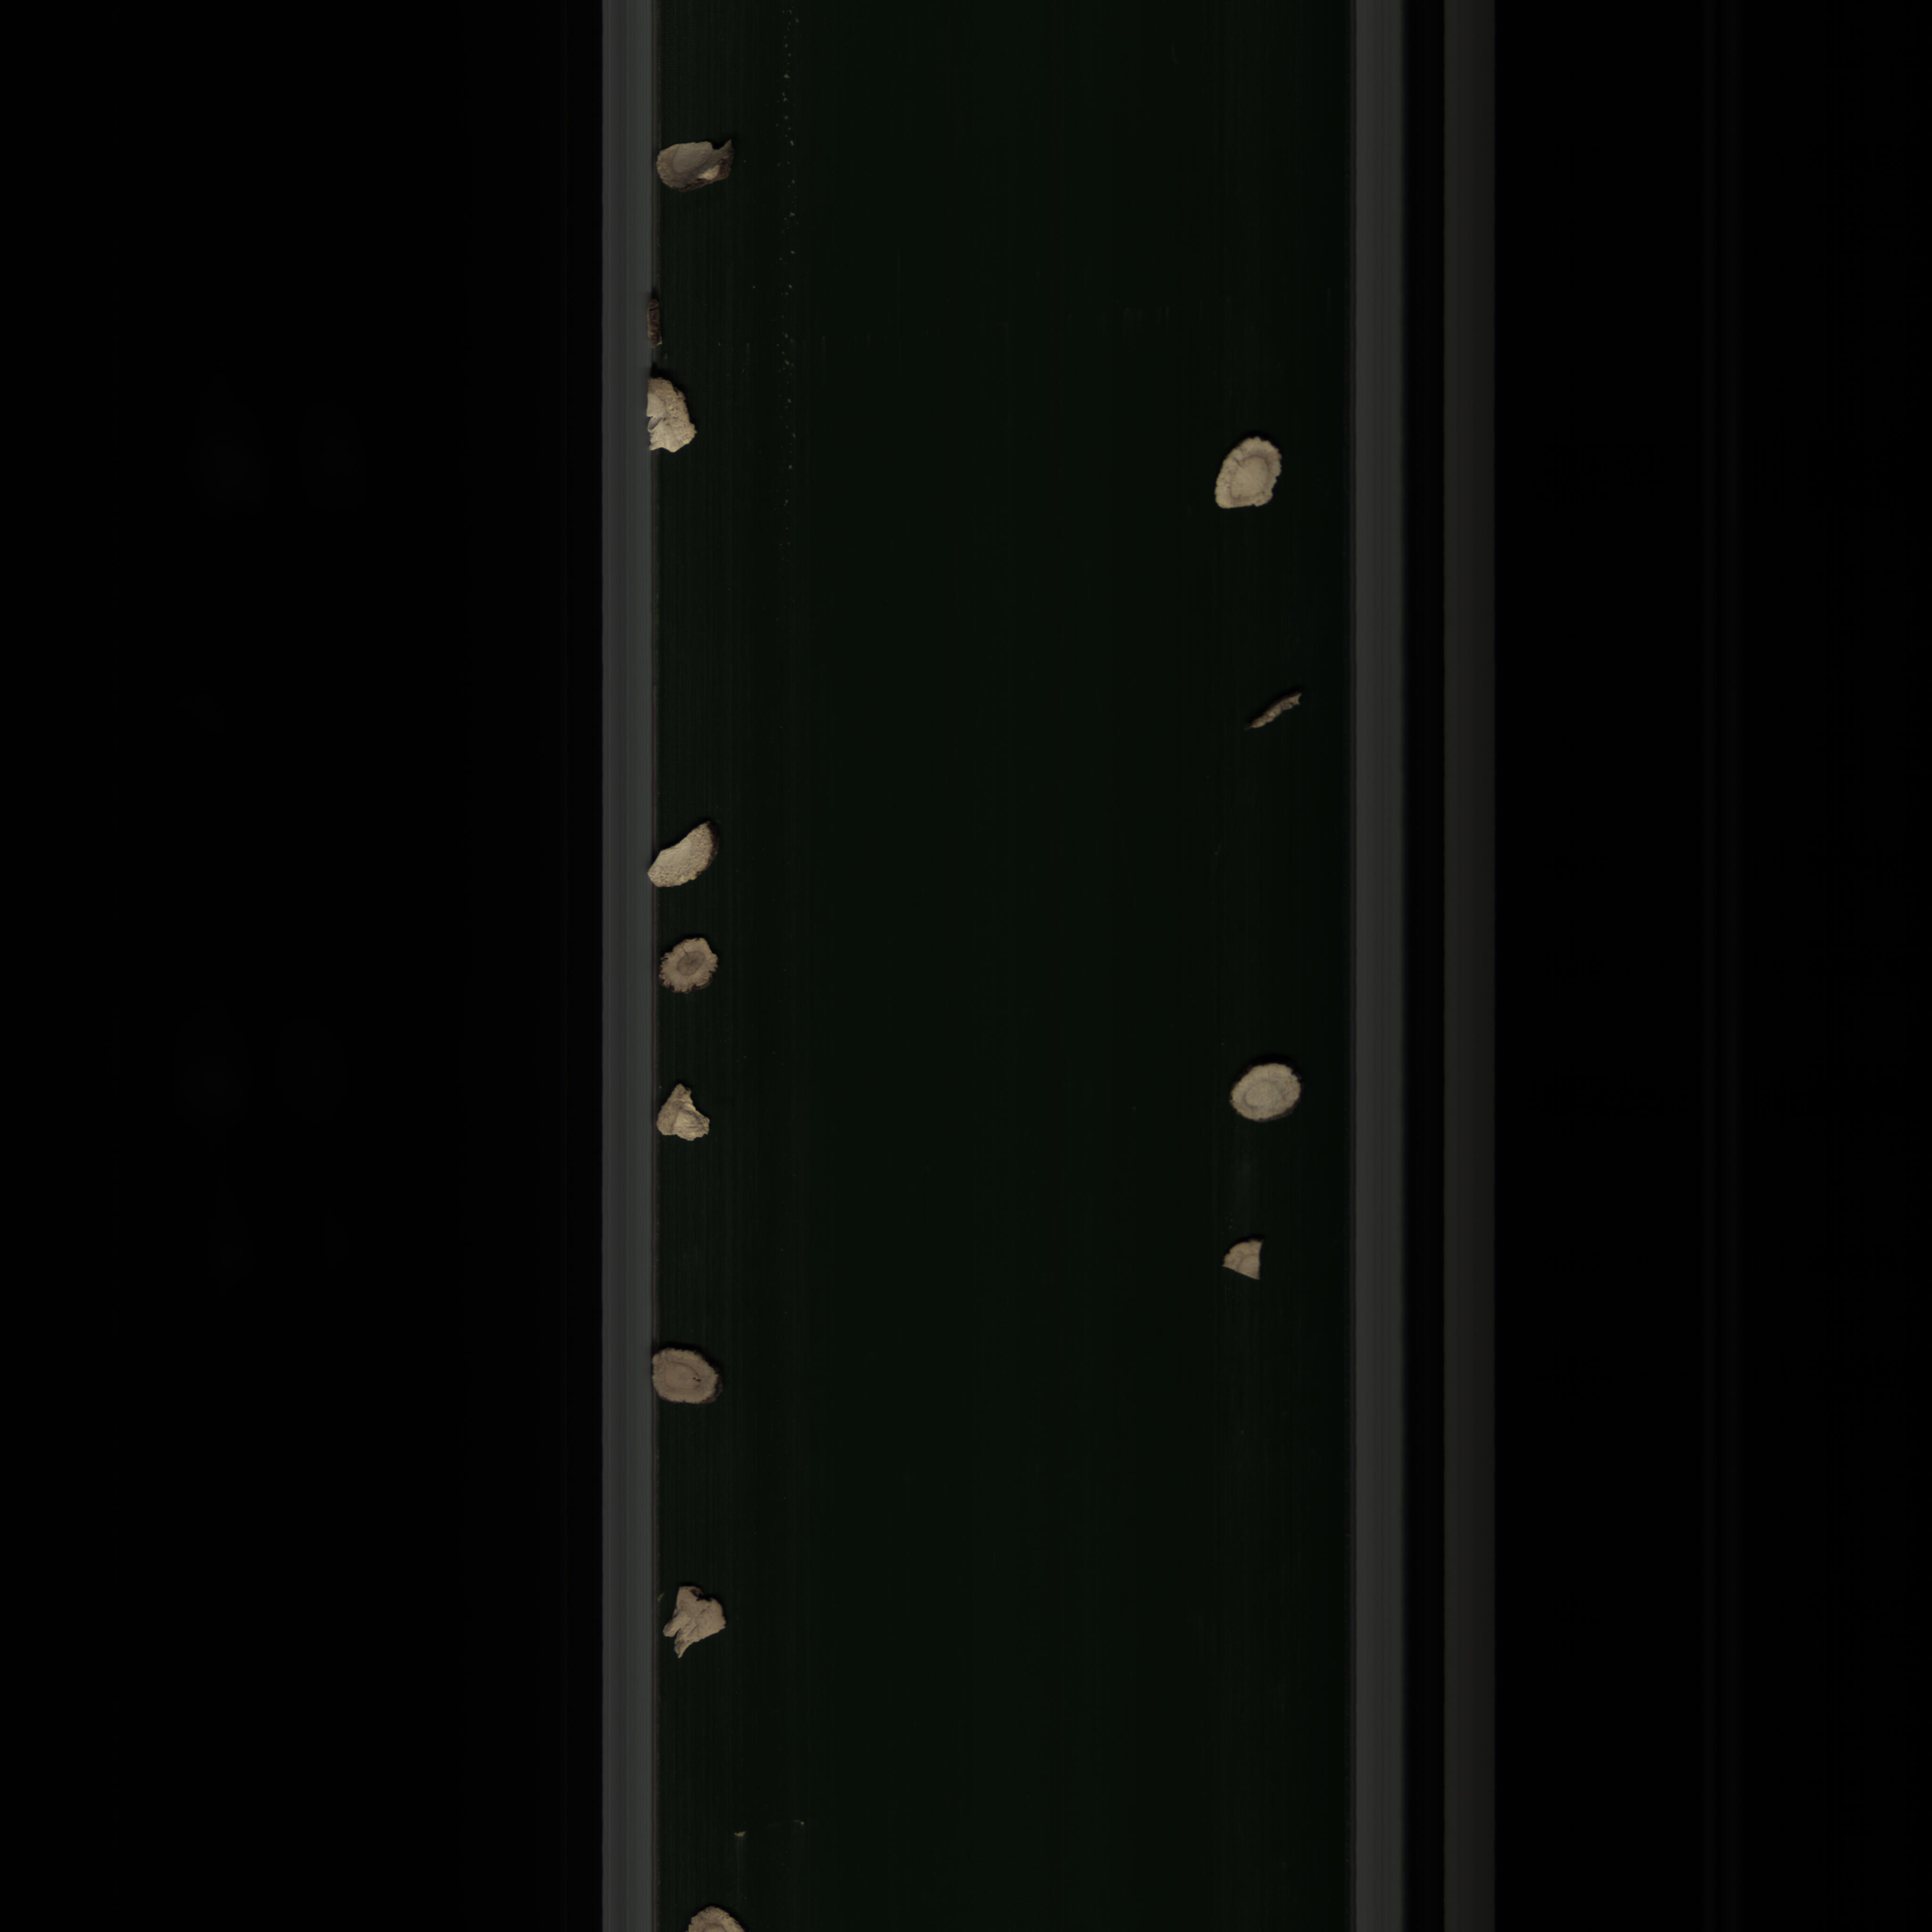bark: (649, 124, 745, 200), (1230, 690, 1306, 738)
debris: (646, 1576, 731, 1658), (637, 819, 727, 886), (635, 370, 695, 458), (655, 1081, 720, 1148), (1221, 1233, 1263, 1293)
moldy: (655, 925, 732, 998)
